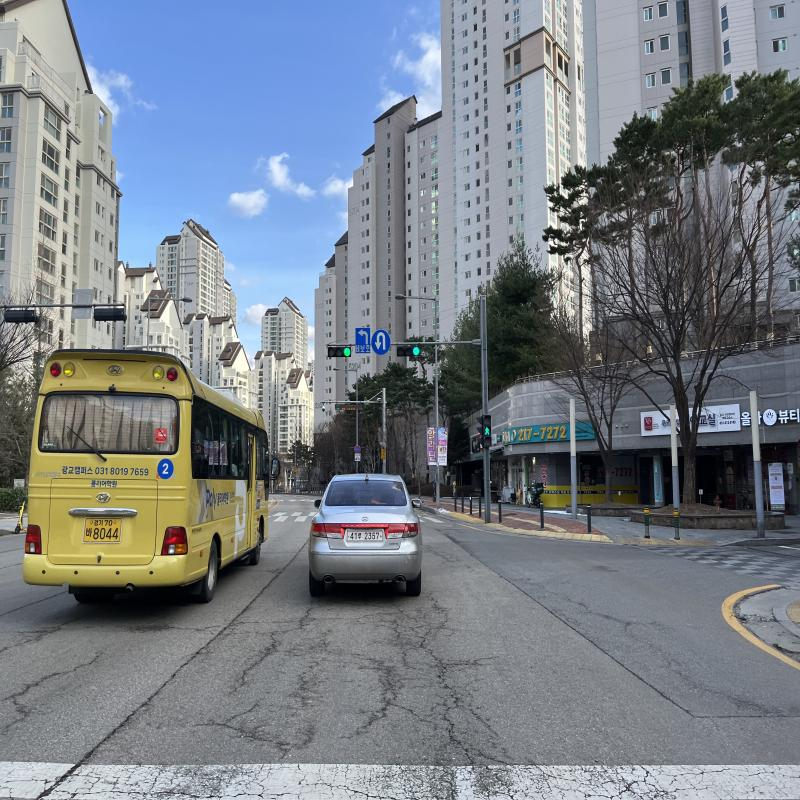green: (412, 347, 420, 356), (343, 348, 351, 356)
